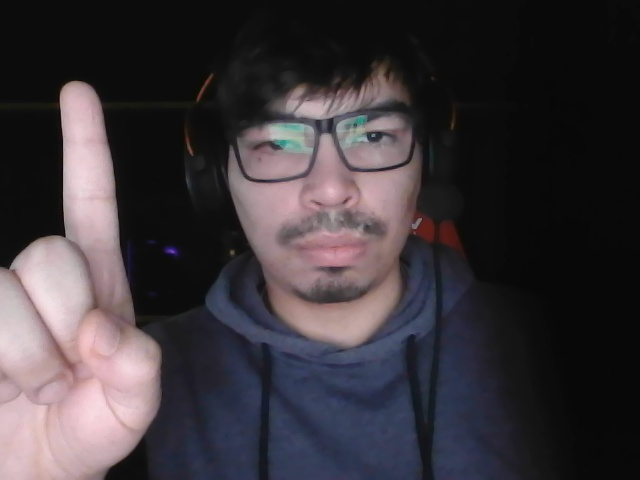one: (1, 78, 179, 470)
